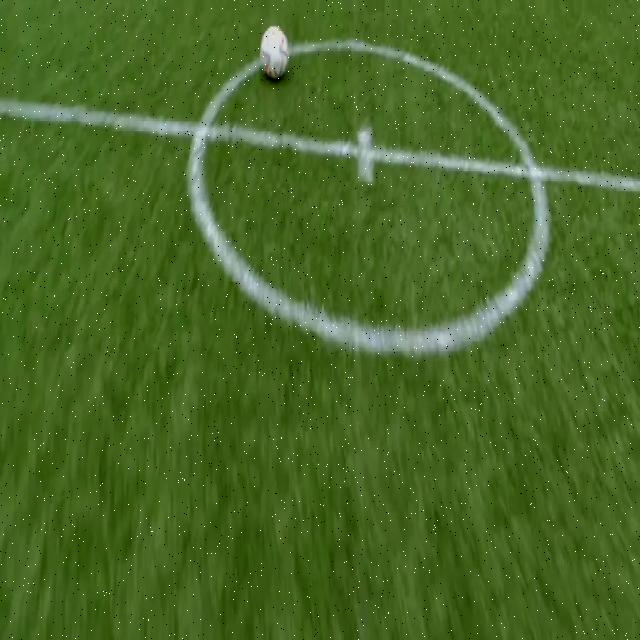ball: (260, 26, 288, 79)
